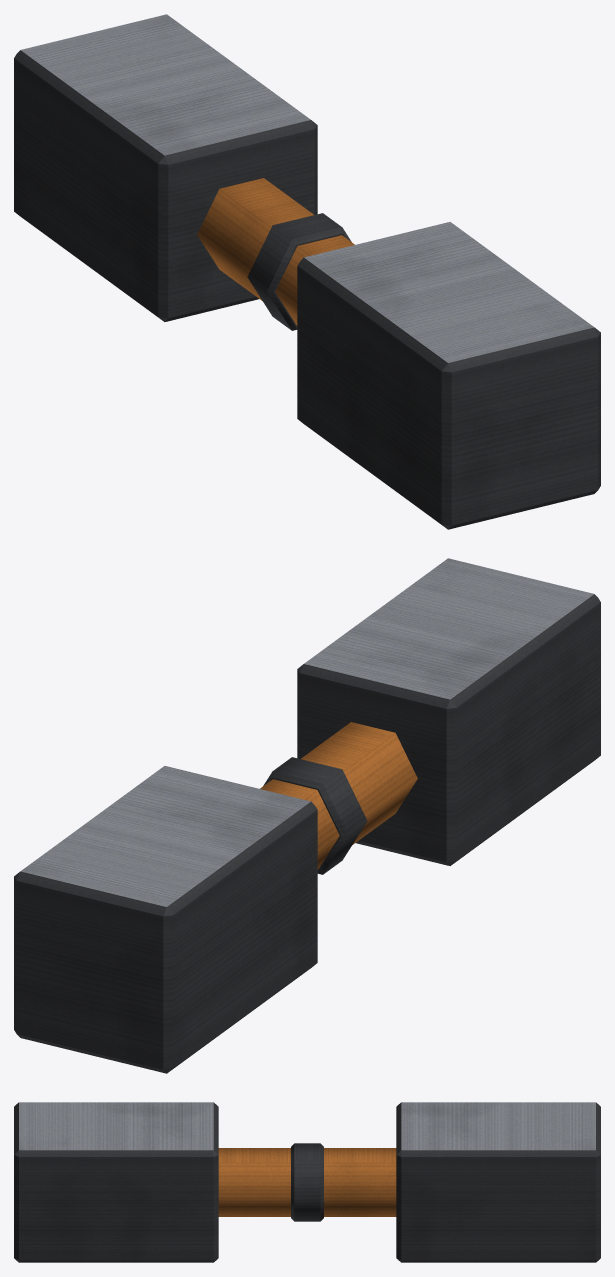
File: R4C_ROD_SHORT_LOD1.glb
The picture shows the model from 3 angles, top to bottom: view 1: azimuth 30°, elevation 25°; view 2: azimuth 150°, elevation 25°; view 3: azimuth 270°, elevation 25°; orthographic projection. The views are drawn at different scales.
Parts seen in each view (by area): view 1: R4C_ROD_SHORT_LOD1; view 2: R4C_ROD_SHORT_LOD1; view 3: R4C_ROD_SHORT_LOD1.
Part boxes in pixels (x1,y1,x2,y2): R4C_ROD_SHORT_LOD1: (14, 14, 600, 529); R4C_ROD_SHORT_LOD1: (14, 558, 600, 1073); R4C_ROD_SHORT_LOD1: (14, 1102, 600, 1262).
Size of the model in its own units: 0.226 by 0.226 by 1.07.
Materials: 3 (3 with a texture image).
